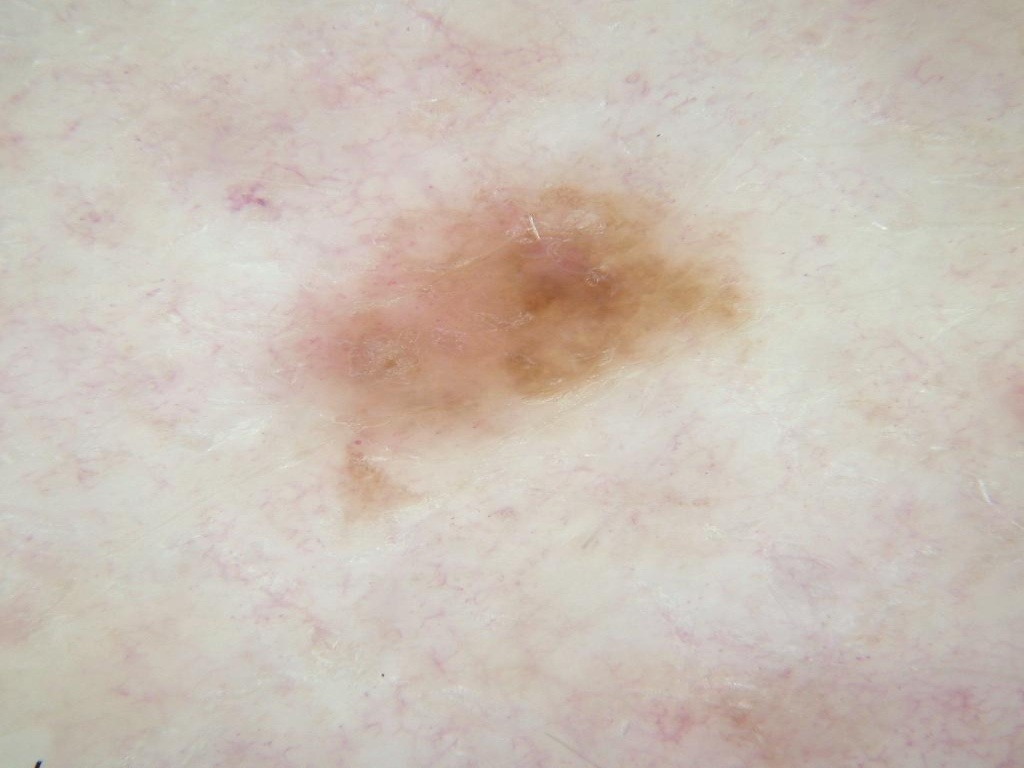Detected Lesion: (280, 174, 756, 521)
